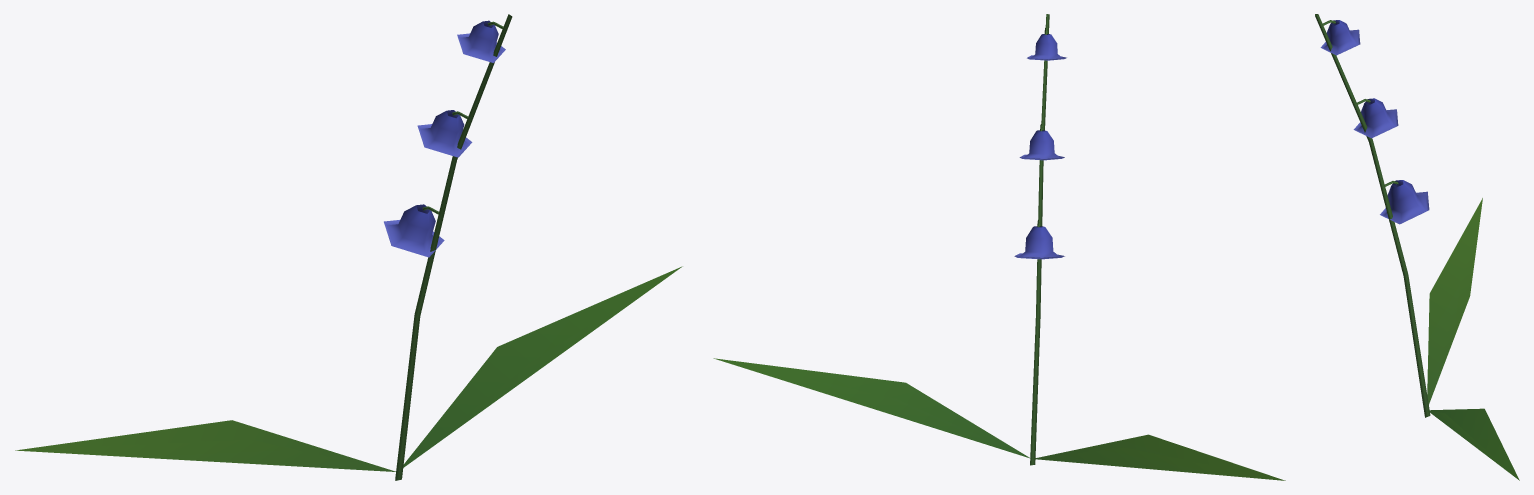
The model's file is flower-bluebell-a.lod1.glb.
3 views of the same model, side by side, from view 1: azimuth 30°, elevation 25°; view 2: azimuth 150°, elevation 25°; view 3: azimuth 270°, elevation 25° (orthographic). The views are drawn at different scales.
Parts seen in each view (by area): view 1: flower-bluebell-a.lod1; view 2: flower-bluebell-a.lod1; view 3: flower-bluebell-a.lod1.
Part boxes in pixels (x1,y1,x2,y2): flower-bluebell-a.lod1: (15,14,682,480); flower-bluebell-a.lod1: (713,14,1285,480); flower-bluebell-a.lod1: (1315,14,1519,480).
Size of the model in its own units: 0.51 by 0.3535 by 0.1558.
